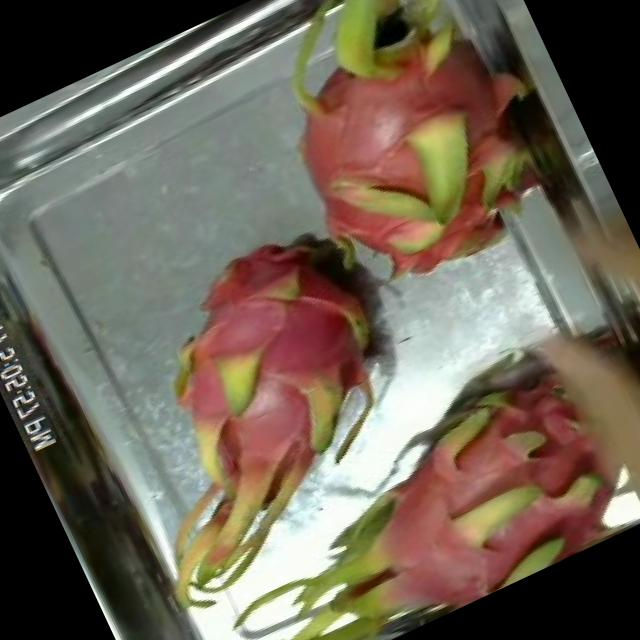Fruit: (151, 318, 424, 571)
